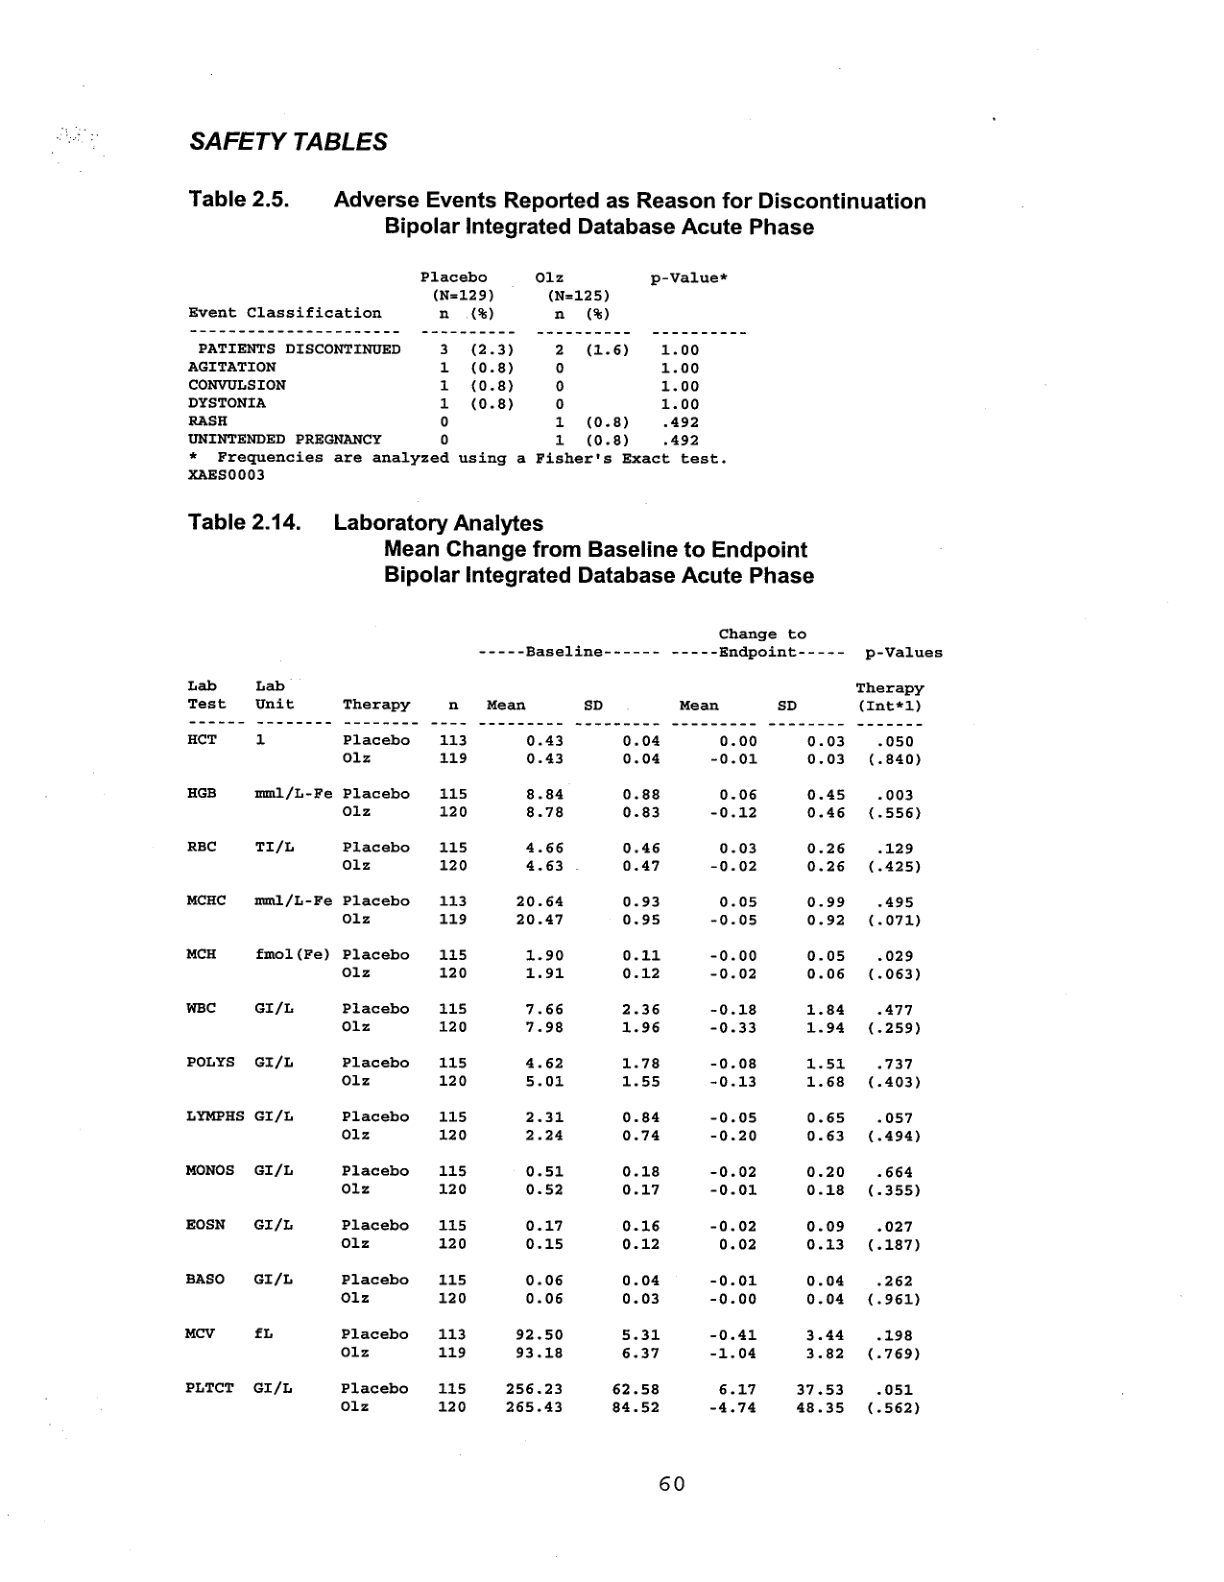nolines: (182, 628, 941, 1421), (185, 267, 748, 448)
